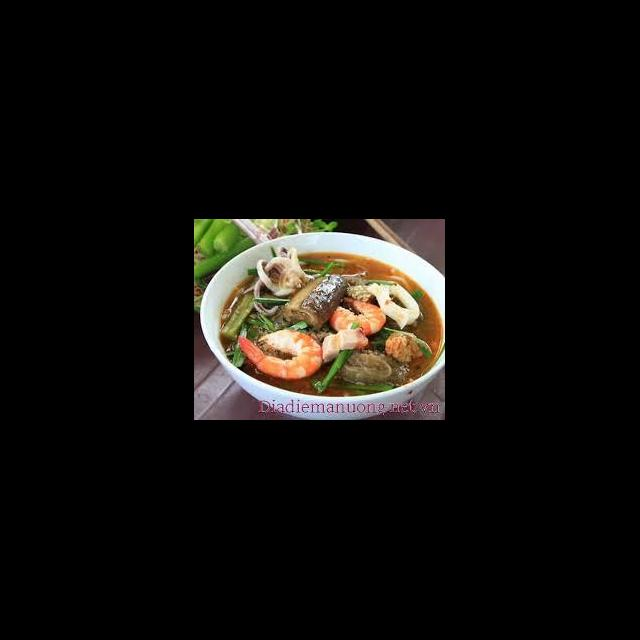tom: (236, 326, 326, 384), (324, 294, 390, 338)
